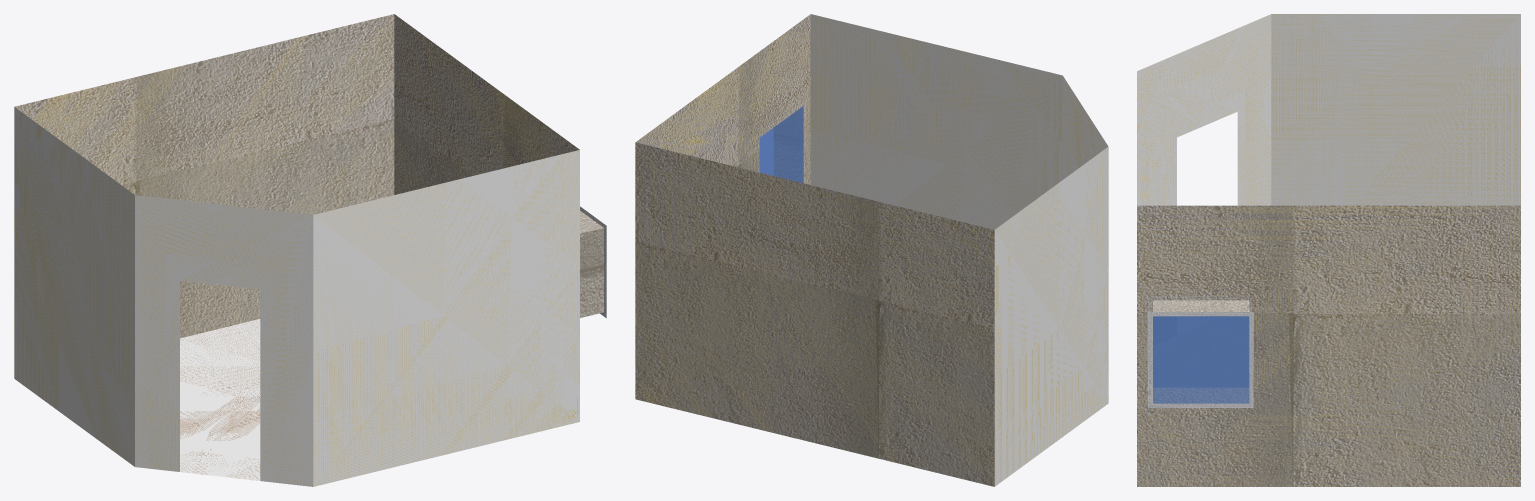
The model's file is LAB003.obj.
3 renders of one model, left to right at view 1: azimuth 30°, elevation 25°; view 2: azimuth 150°, elevation 25°; view 3: azimuth 270°, elevation 25°, orthographic. The views are drawn at different scales.
Visible parts, largest first — view 1: Mesh5 COM003 Model, Mesh1 Group1 COM003 Model; view 2: Mesh5 COM003 Model, Mesh1 Group1 COM003 Model; view 3: Mesh5 COM003 Model, Mesh1 Group1 COM003 Model.
Boxes of the visible parts, x1,y1,x2,y2 form: Mesh5 COM003 Model: [14, 14, 579, 486]; Mesh1 Group1 COM003 Model: [580, 206, 606, 318]; Mesh5 COM003 Model: [635, 14, 1108, 486]; Mesh1 Group1 COM003 Model: [757, 100, 805, 183]; Mesh5 COM003 Model: [1137, 14, 1520, 486]; Mesh1 Group1 COM003 Model: [1147, 296, 1253, 407].
Bounding box in the file's own units: 4.71 × 2.98 × 3.68.
Materials: 6 (2 with a texture image).
